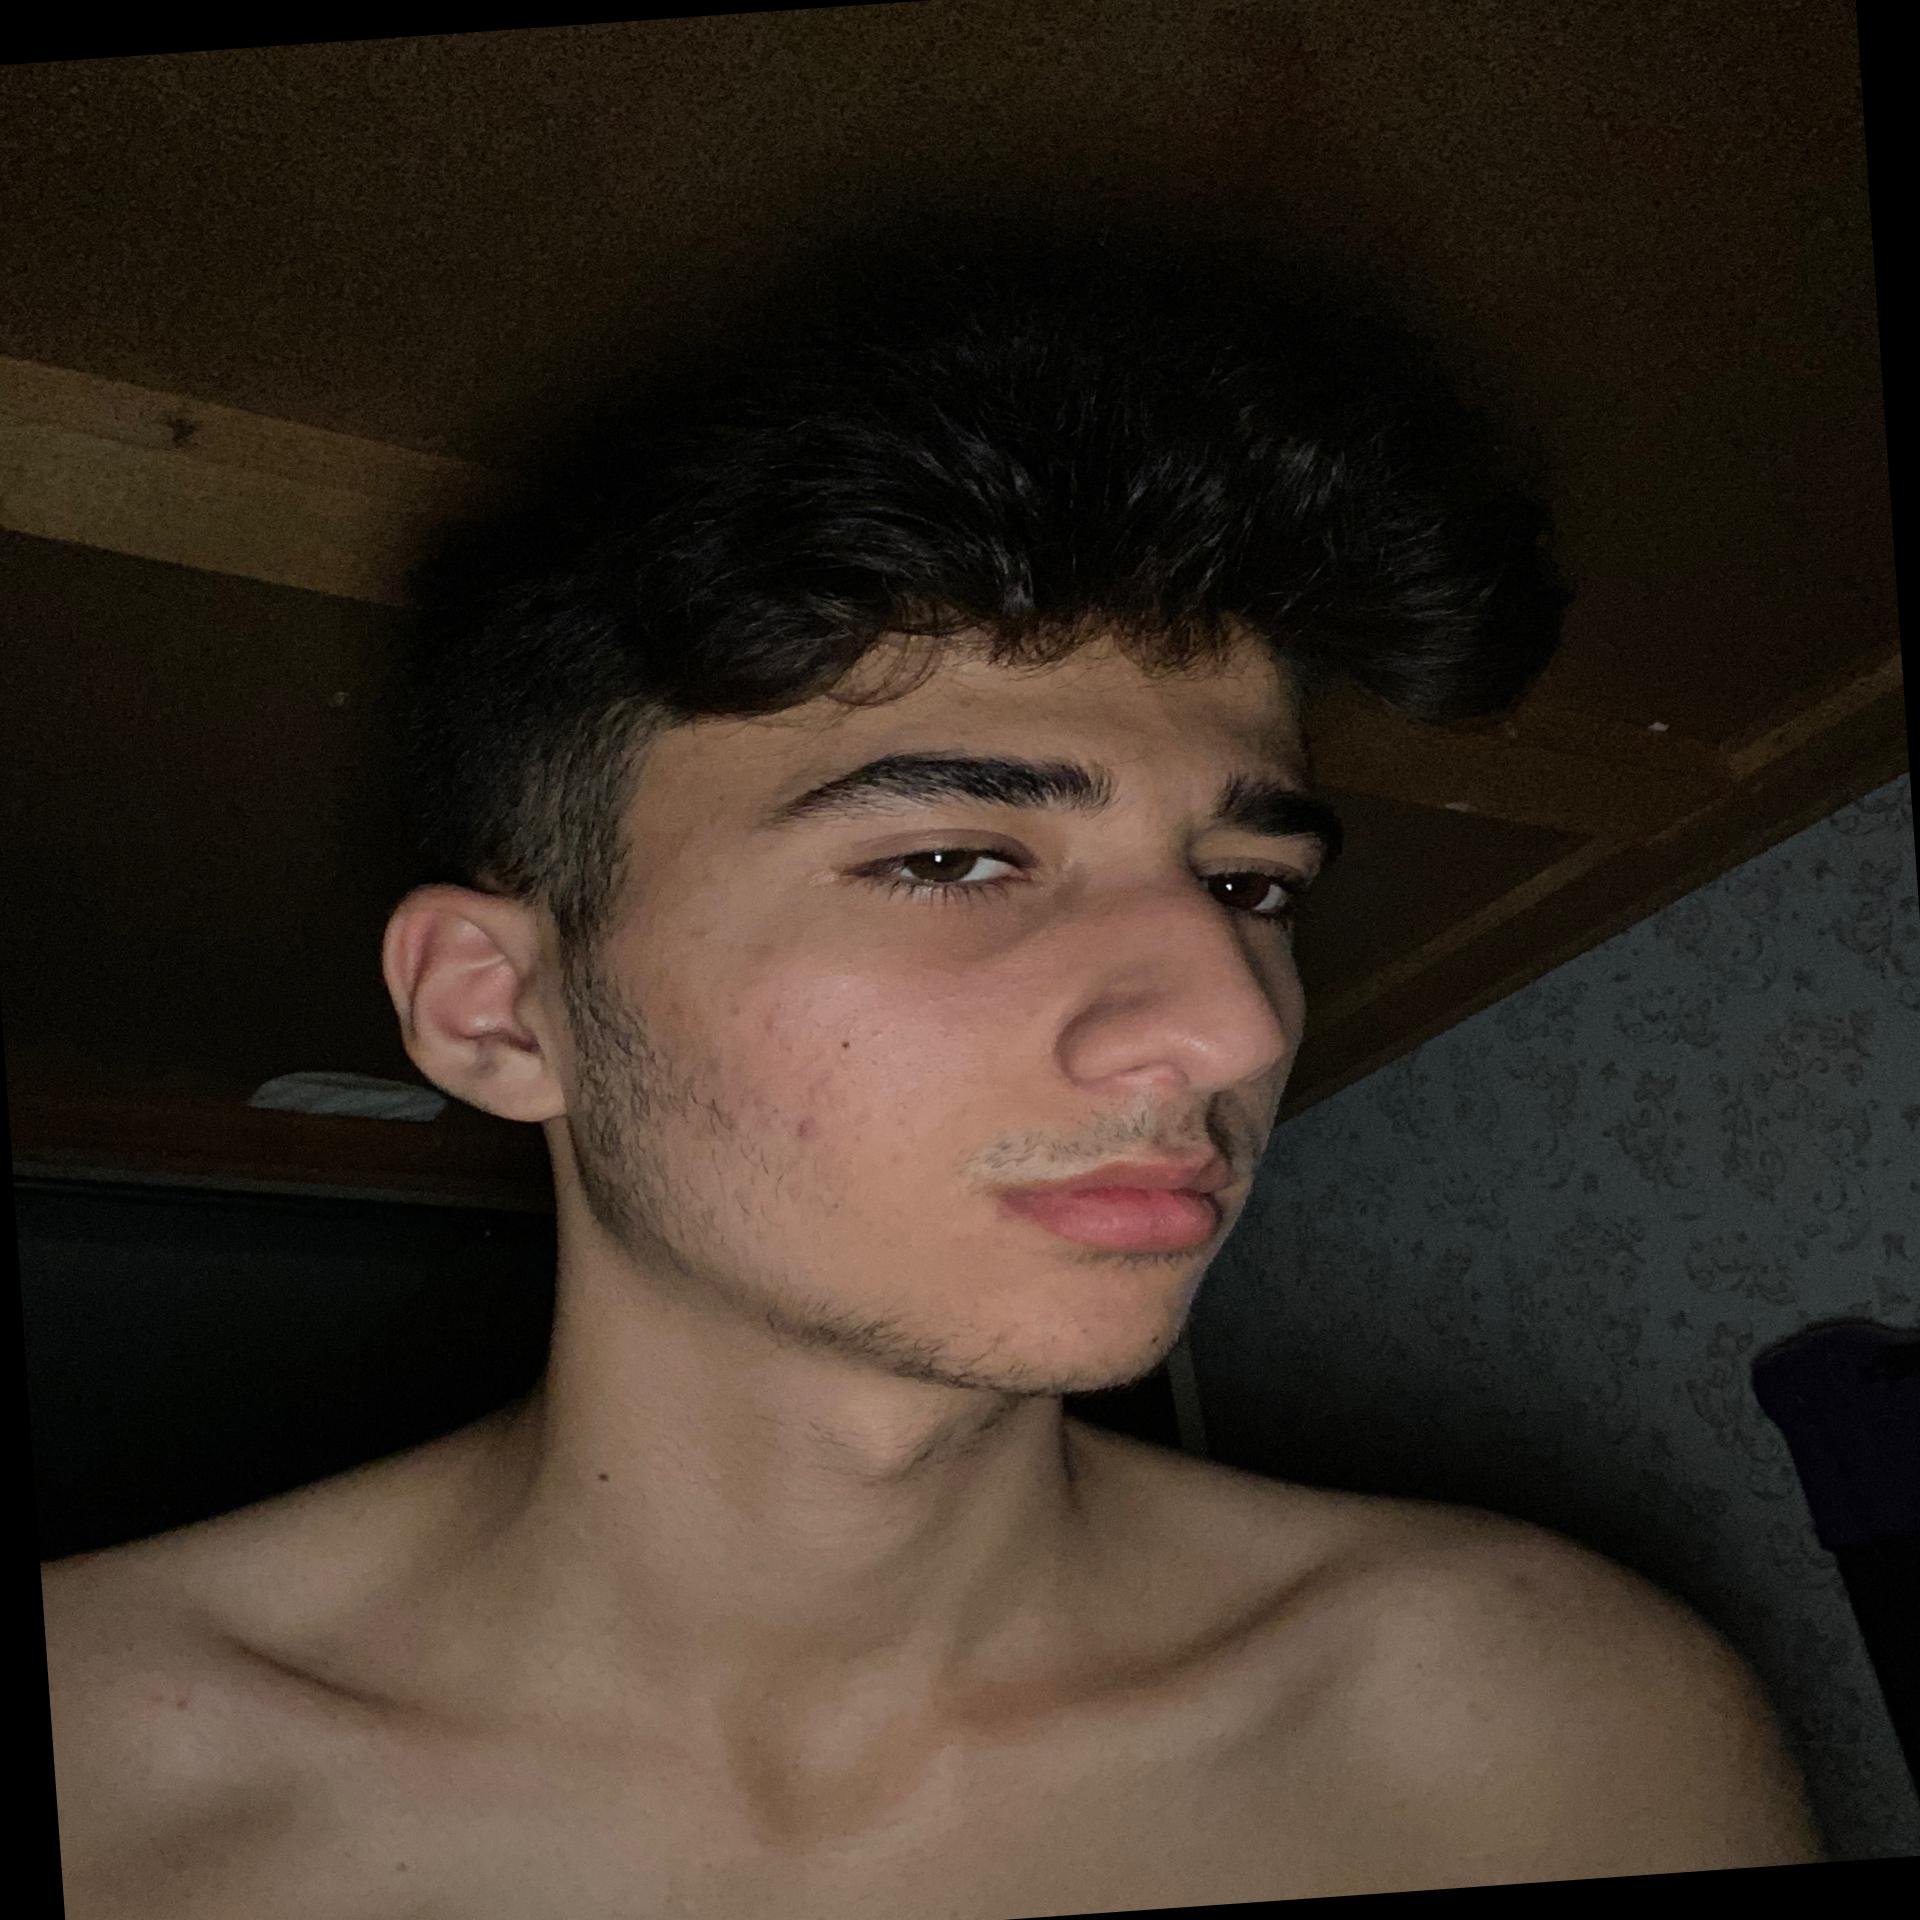Acne: (918, 986, 976, 1020), (860, 1009, 907, 1048), (788, 1109, 828, 1145), (763, 1009, 800, 1041), (687, 920, 726, 949), (844, 1125, 883, 1153), (830, 1032, 865, 1057), (770, 978, 805, 1002), (733, 1002, 756, 1025)
Dark Circles: (860, 877, 1115, 983)
Englarged Pores: (860, 1016, 1004, 1106)
